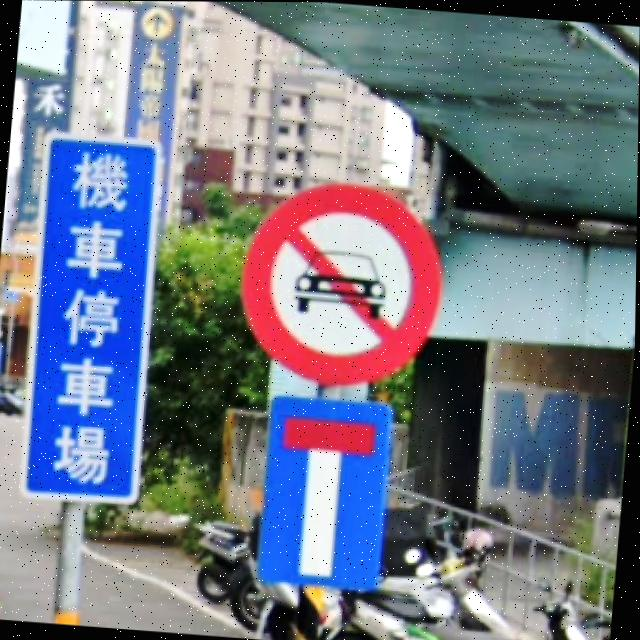nocar: (241, 183, 444, 386)
